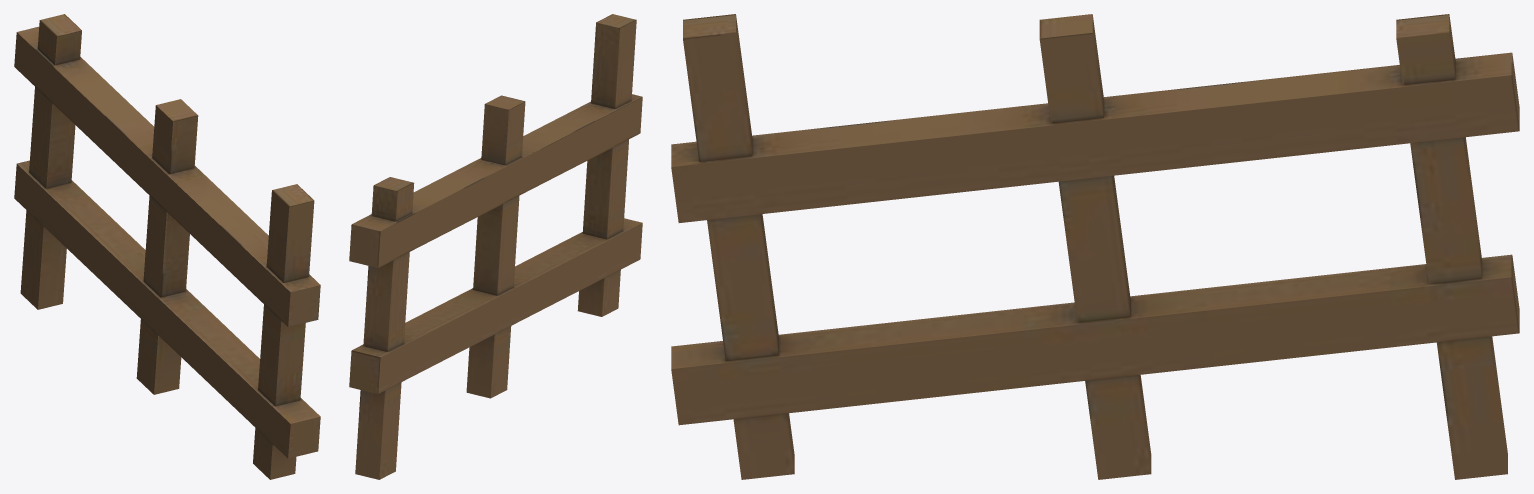
Rendered from valla_volando.glb.
The picture shows the model from 3 angles, left to right: view 1: azimuth 30°, elevation 25°; view 2: azimuth 150°, elevation 25°; view 3: azimuth 270°, elevation 25°; orthographic projection. The views are drawn at different scales.
Parts seen in each view (by area): view 1: valla_volando; view 2: valla_volando; view 3: valla_volando.
Part boxes in pixels (<box>): valla_volando: <box>14,14,320,479</box>; valla_volando: <box>349,14,642,479</box>; valla_volando: <box>671,14,1519,479</box>.
Bounding box in the file's own units: 0.12 × 1.11 × 1.9.
1 material, 1 textured.
